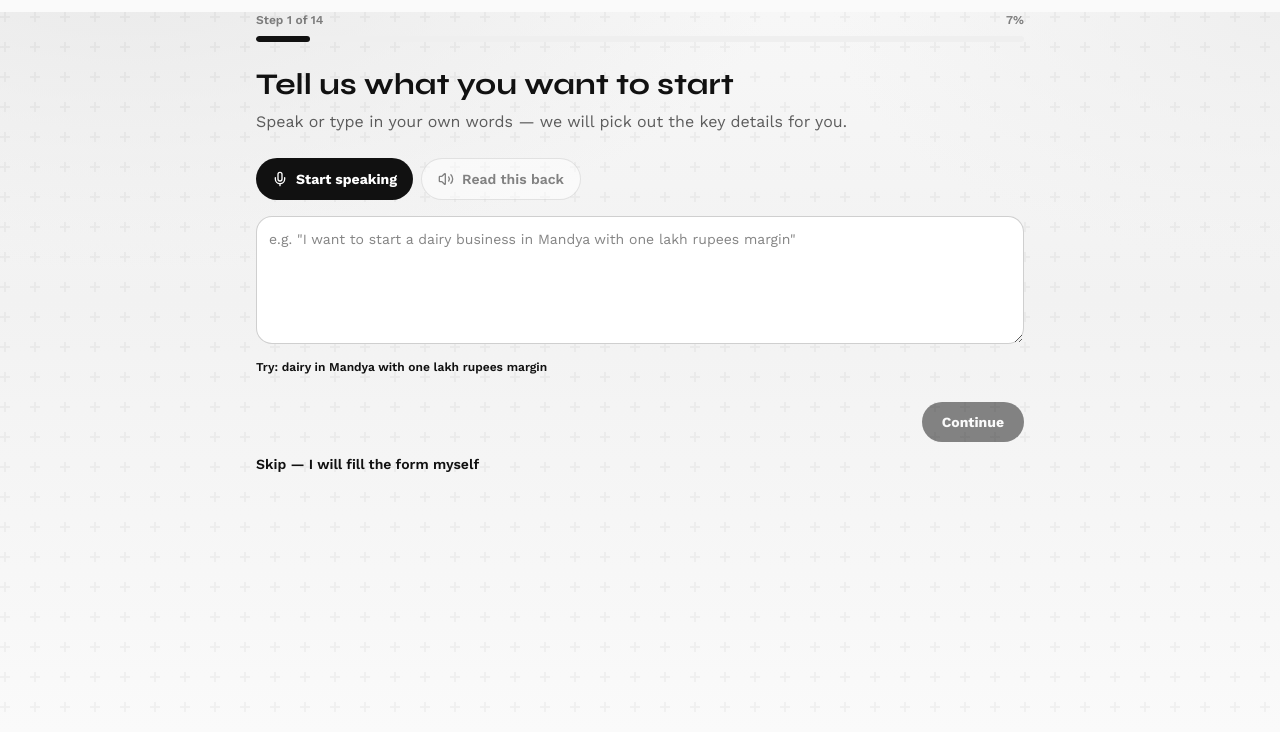
Test case: VoicePage — SpeechRecognition unsupported/error handling › maps SpeechRecognitionErrorEvent.error=service-not-allowed to apply.voice.error.serviceNotAllowed
Step 1. Click the button "Start speaking" → (335, 179), box [256,158,413,200]
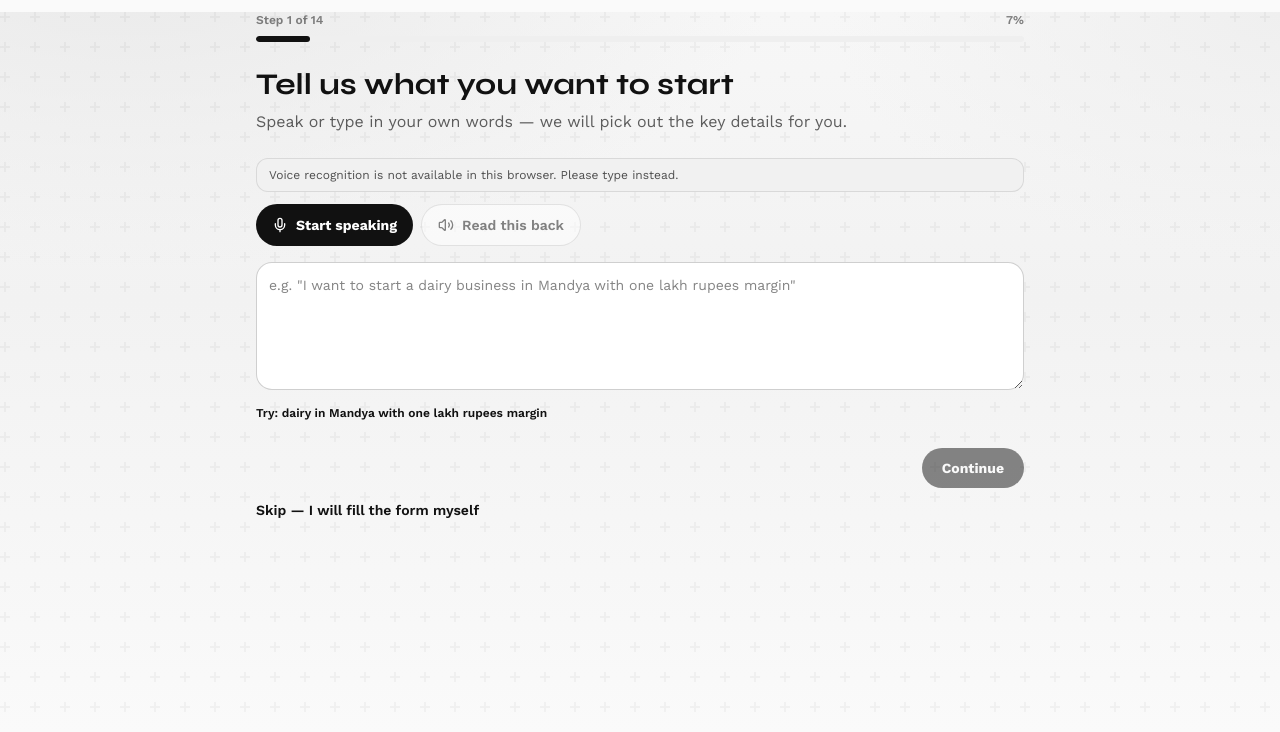
Expected: the message reads "Voice recognition is not available in this browser. Please type instead.", [269,168,678,182]
